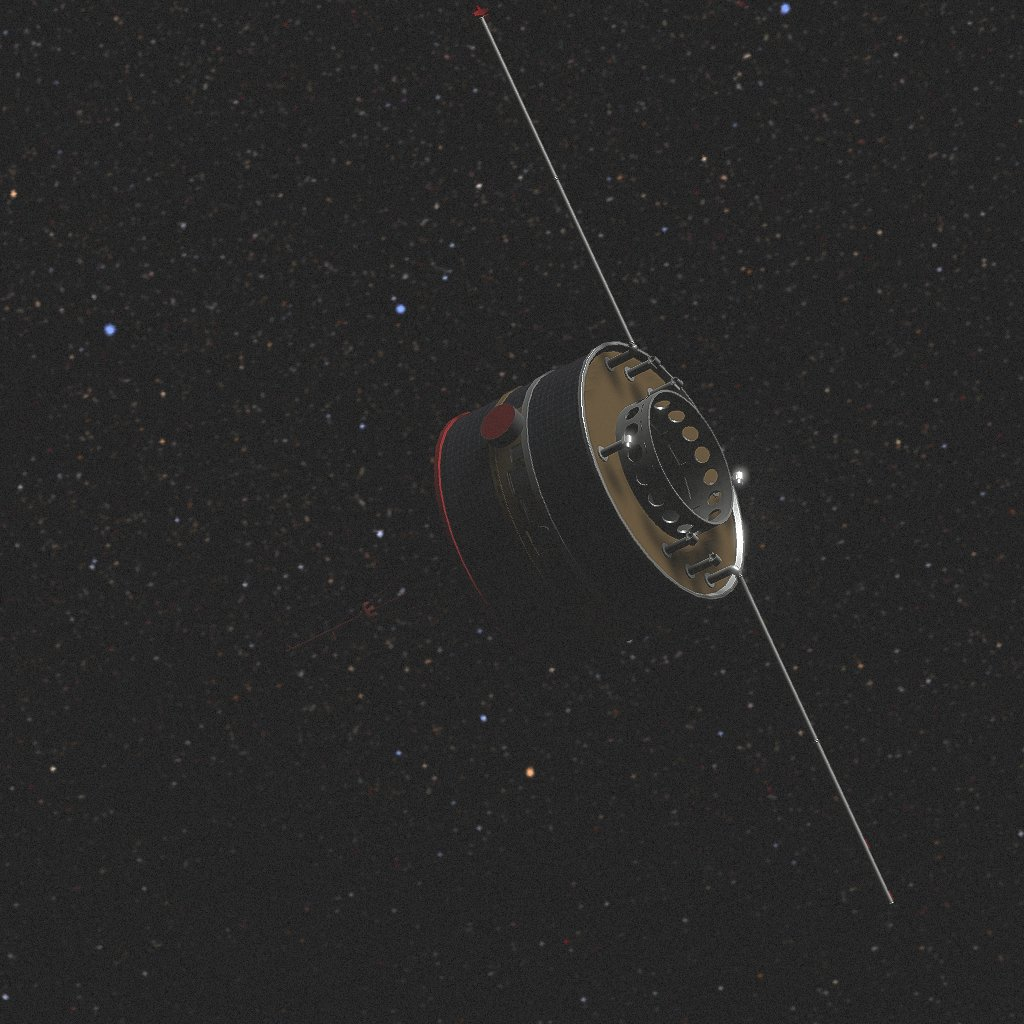double_star: (286, 0, 894, 905)
